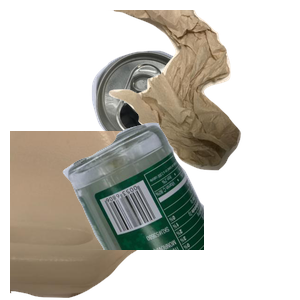glass: (60, 120, 300, 300)
metal: (89, 48, 276, 192)
plastic: (10, 131, 196, 300)
trash: (103, 10, 300, 173)
